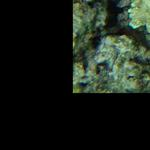dead: (74, 6, 149, 92)
